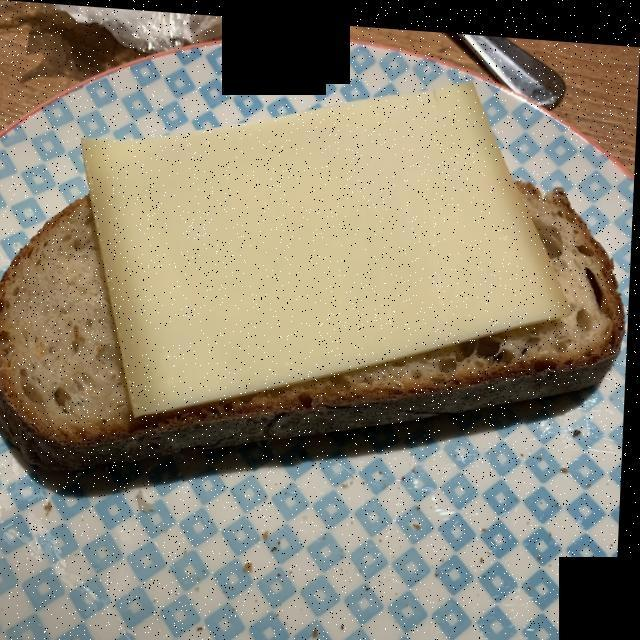bread: (0, 172, 619, 482)
gruyere: (82, 84, 572, 417)
